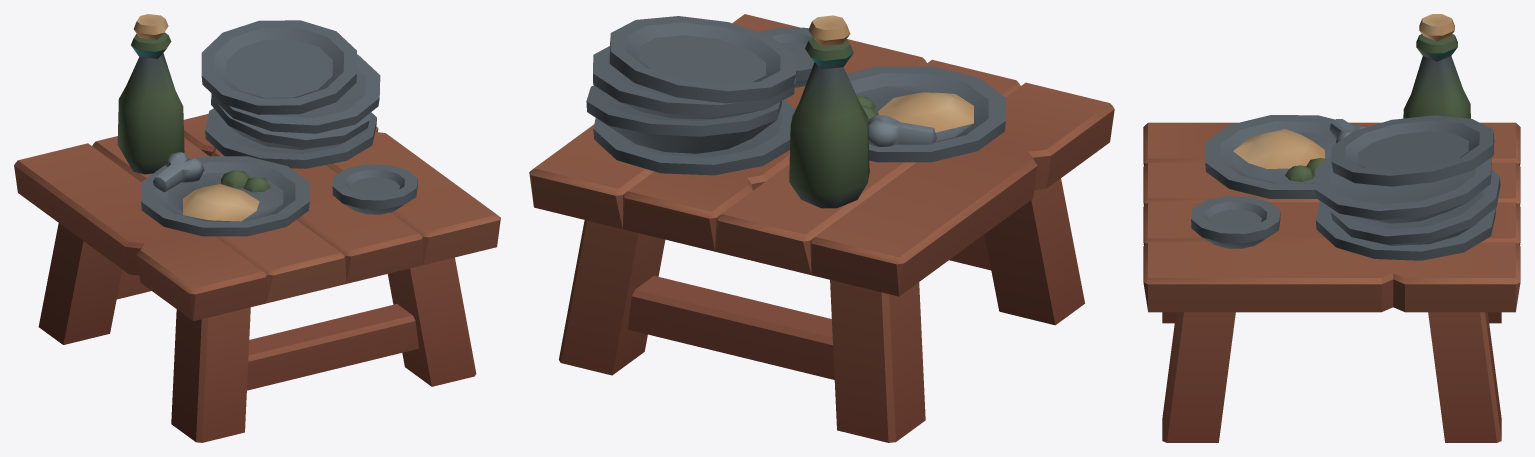
Rendered from table-dwarf.glb.
3 views of the same model, side by side, from view 1: azimuth 30°, elevation 25°; view 2: azimuth 150°, elevation 25°; view 3: azimuth 270°, elevation 25° (orthographic). The views are drawn at different scales.
Visible parts, largest first — view 1: table-dwarf; view 2: table-dwarf; view 3: table-dwarf.
Part boxes in pixels (<box>): table-dwarf: <box>14,14,500,442</box>; table-dwarf: <box>529,14,1114,442</box>; table-dwarf: <box>1143,14,1520,442</box>.
Bounding box in the file's own units: 2 × 1.89 × 2.
